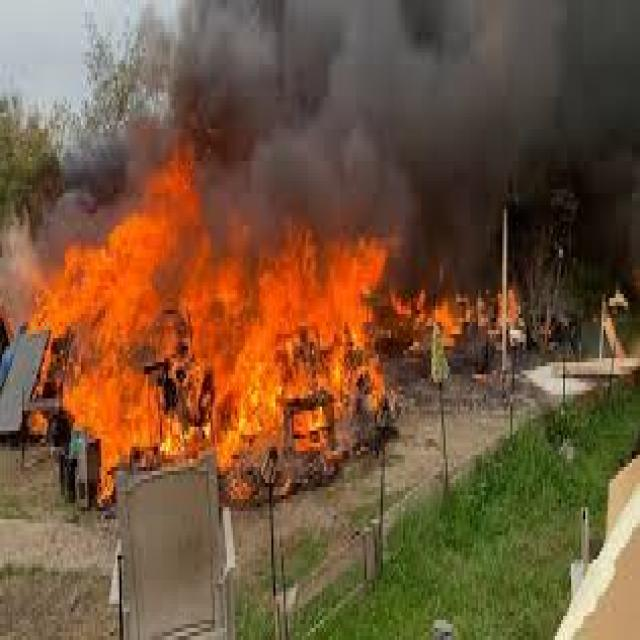fire: (30, 157, 393, 499), (391, 286, 520, 346)
smoke: (126, 4, 636, 233)
